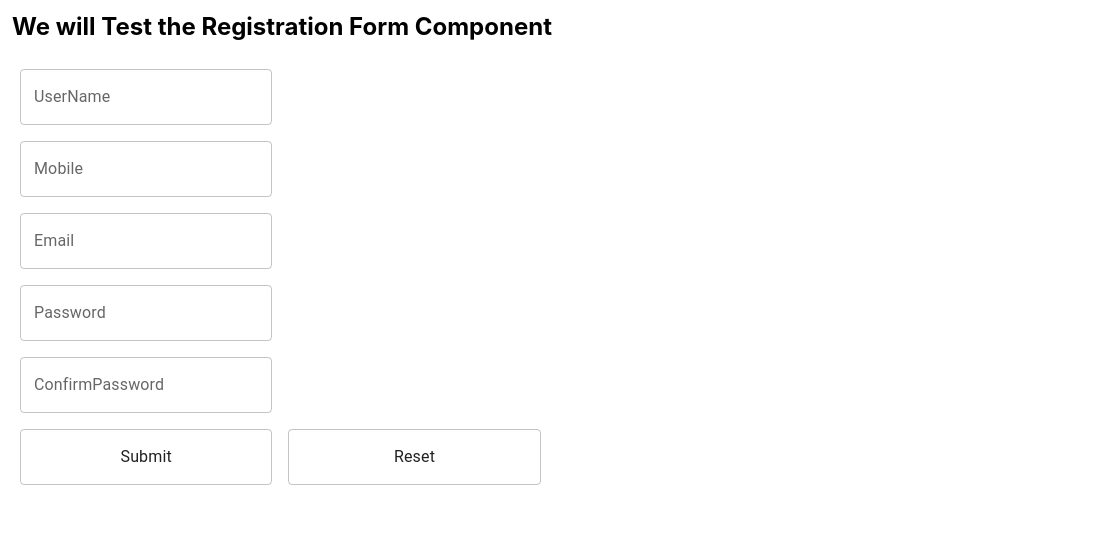
Test case: Test the Registration Component › should be able to submit the form
In the field labelled "Email": (146, 241) [20, 213, 272, 269], type "pavan@gmail.com"
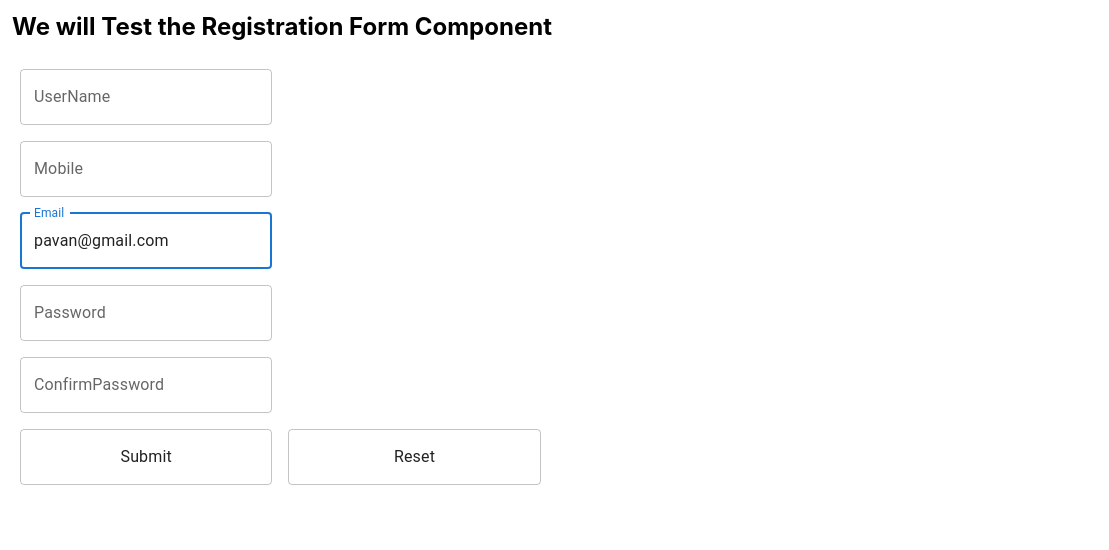
In the password field labelled "Password": (146, 313) [20, 285, 272, 341], type "1234567"
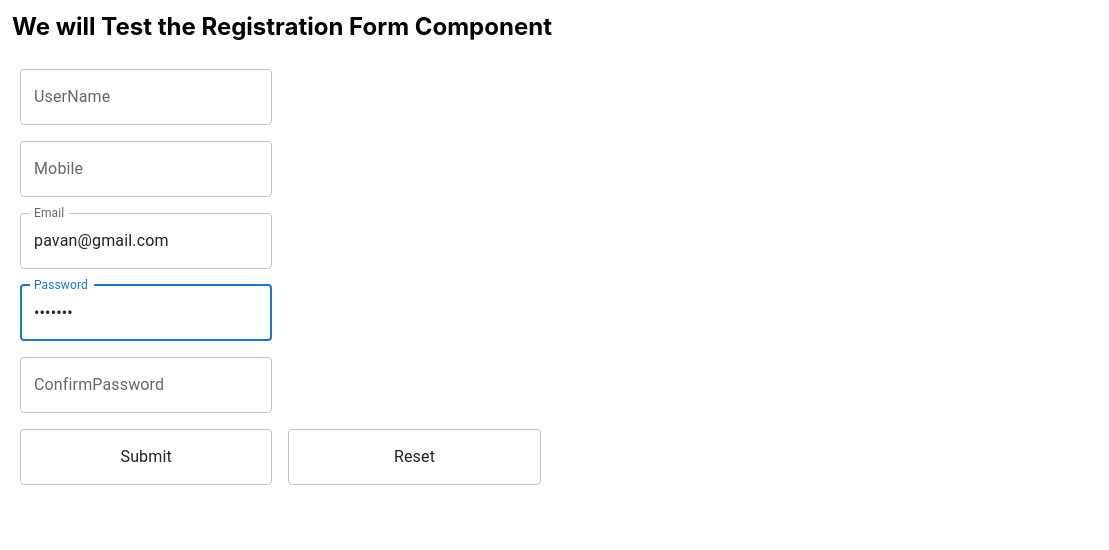
In the password field labelled "ConfirmPassword": (146, 385) [20, 357, 272, 413], type "1234567"
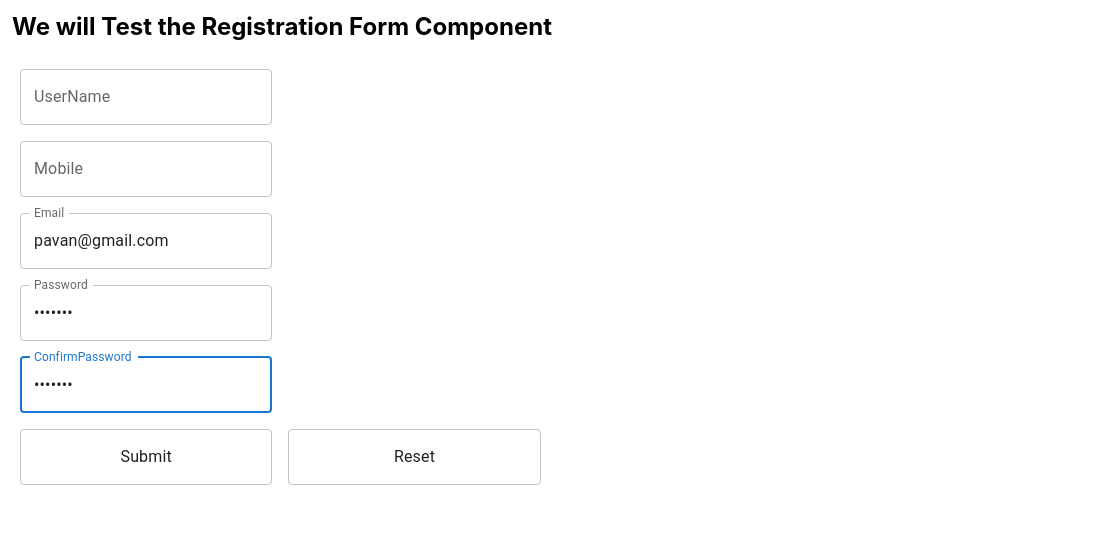
Click the 1st button: (146, 457) [20, 429, 272, 485]
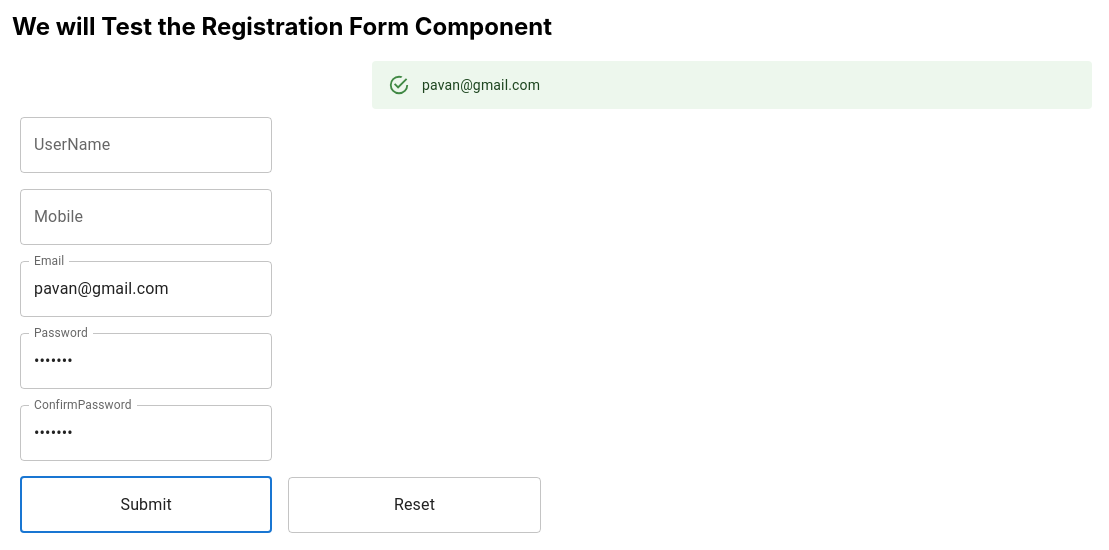
Expected: the text "pavan@gmail.com" is shown, [422, 77, 540, 93]
